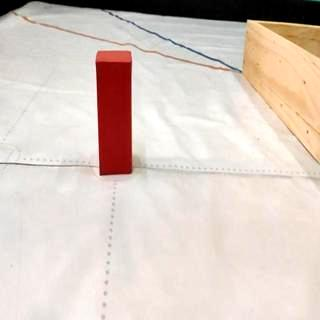redbox: (96, 50, 132, 175)
